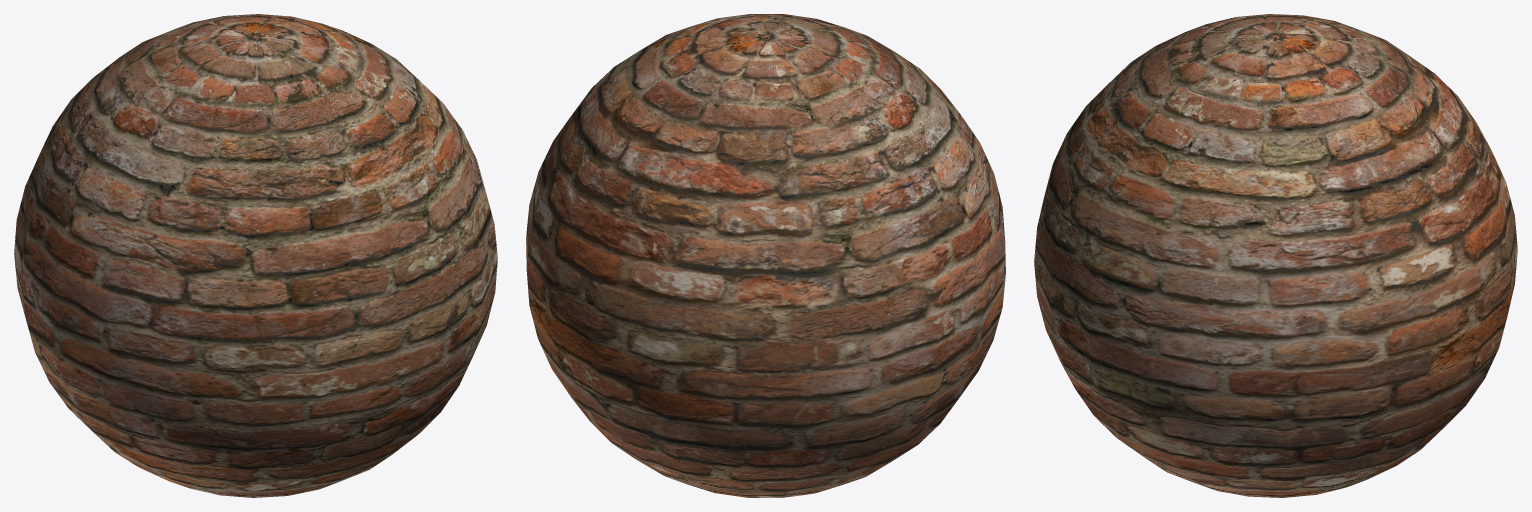
Rendered from Ball.fbx.
The picture shows the model from 3 angles, left to right: view 1: azimuth 30°, elevation 25°; view 2: azimuth 150°, elevation 25°; view 3: azimuth 270°, elevation 25°; orthographic projection.
Parts seen in each view (by area): view 1: pSphere1; view 2: pSphere1; view 3: pSphere1.
Boxes of the visible parts, x1,y1,x2,y2 form: pSphere1: (14, 14, 497, 497); pSphere1: (526, 14, 1005, 497); pSphere1: (1034, 14, 1517, 497).
Bounding box in the file's own units: 2 × 2 × 2.
Materials: 1 (1 with a texture image).
